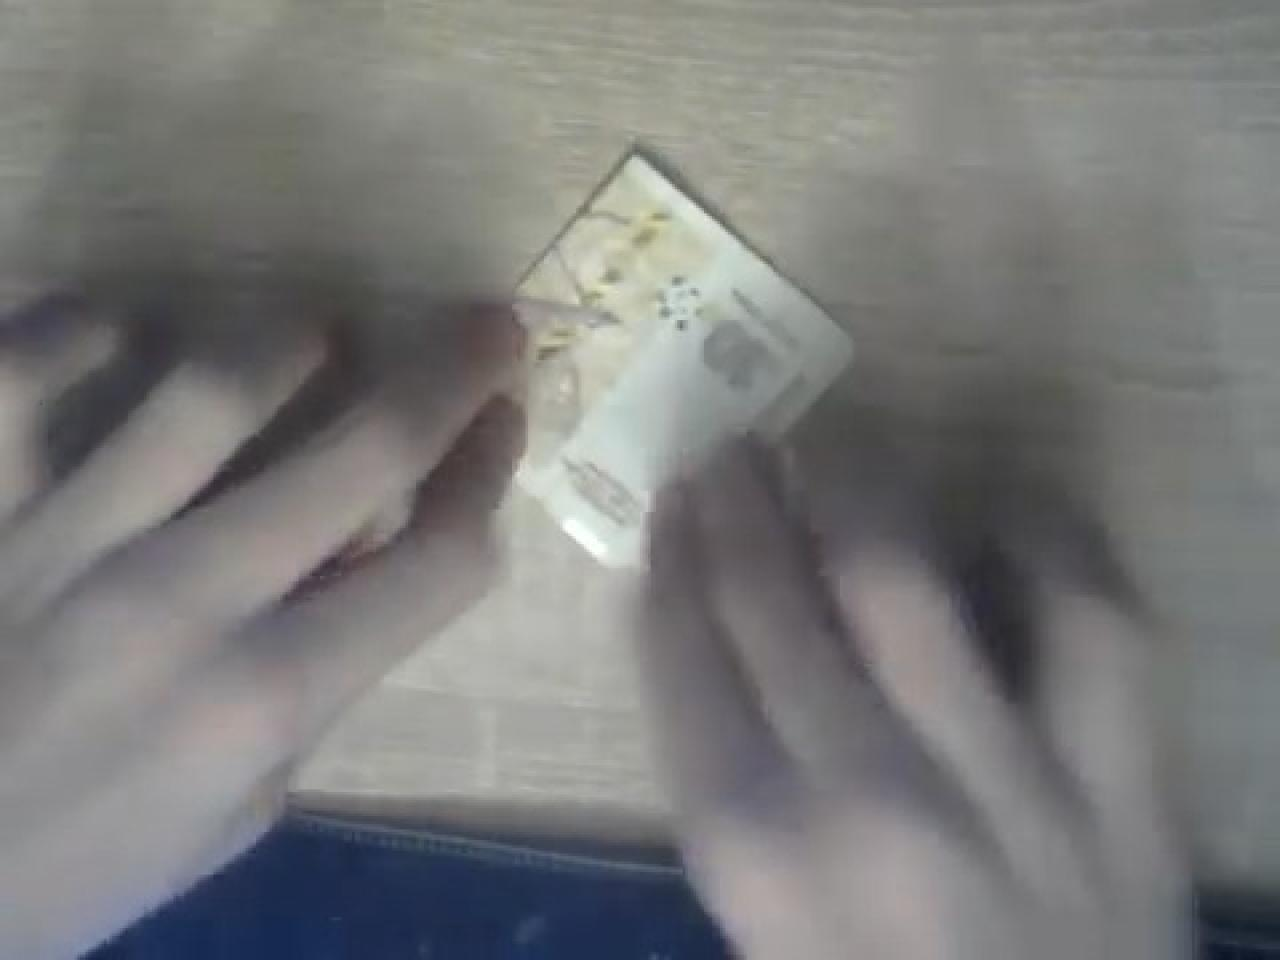10leva: (515, 144, 859, 568)
